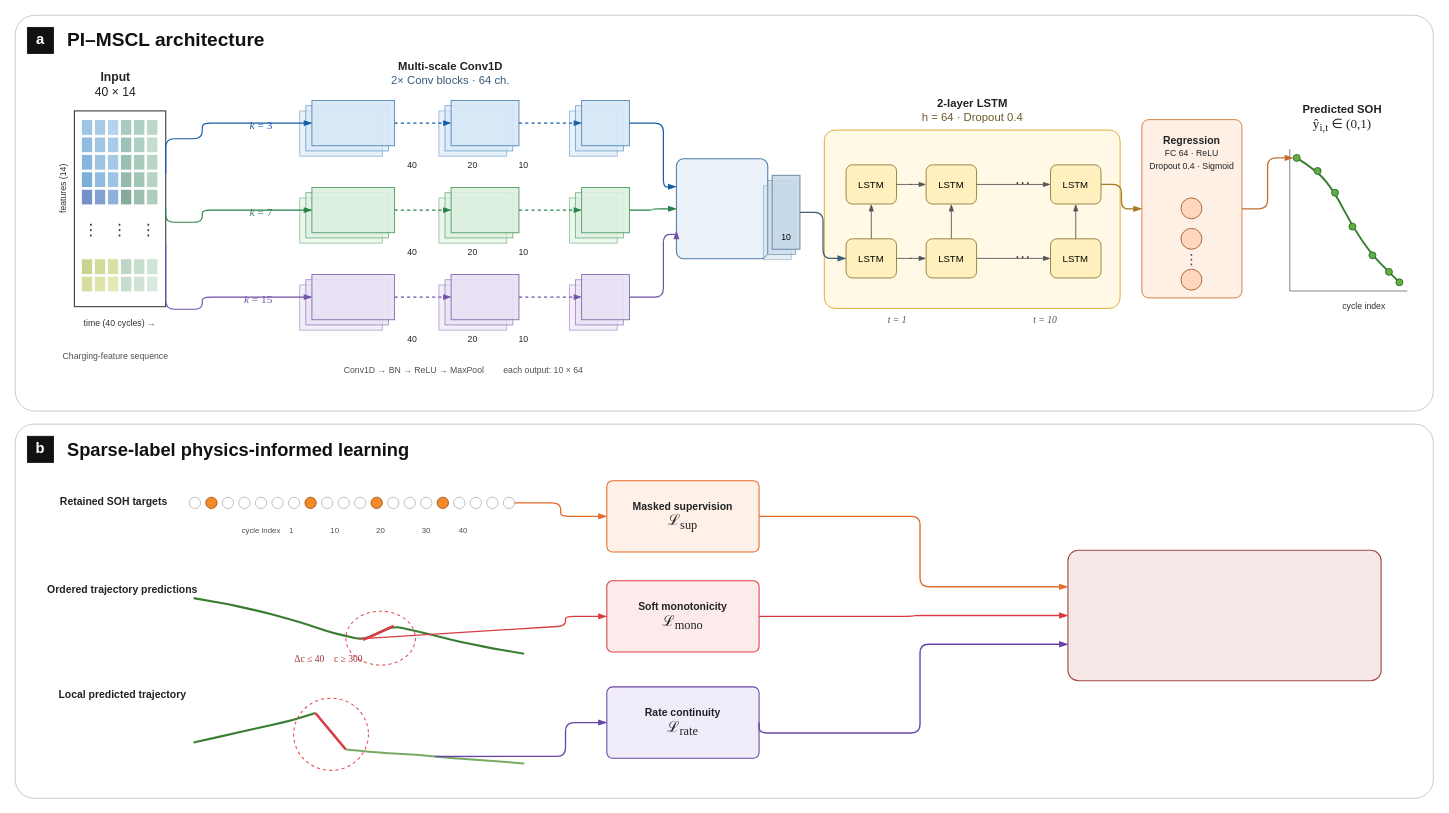
Some shapes in this 1449 by 813 pixel diagram are drawn without their labels. The shapes that lost their labels are listed below. From the top down, each one's centre as x and y in pixels, then its label:
(721,208): Fuse 1 × 1 Conv 192 → 128
(1224,615): Training objective ℒ = ℒ sup + λ mono ℒ mono + λ rate ℒ rate
(331,733): t − w t t + w
